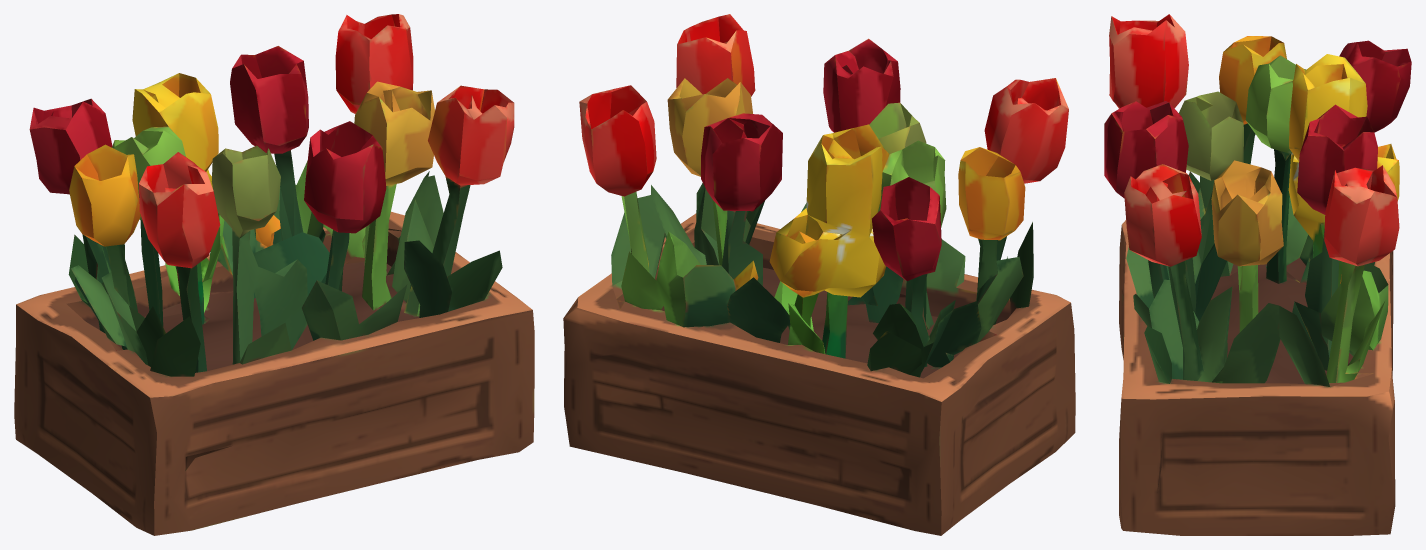
The model's file is tulip-window-box.glb.
The picture shows the model from 3 angles, left to right: view 1: azimuth 30°, elevation 25°; view 2: azimuth 150°, elevation 25°; view 3: azimuth 270°, elevation 25°; orthographic projection.
Parts seen in each view (by area): view 1: geometry_0; view 2: geometry_0; view 3: geometry_0.
Part boxes in pixels (box(x1,y1,x2,y2)): geometry_0: box(14, 14, 534, 535); geometry_0: box(563, 14, 1075, 535); geometry_0: box(1104, 14, 1411, 535).
Bounding box in the file's own units: 1 × 0.8887 × 0.6906.
Materials: 1 (1 with a texture image).
